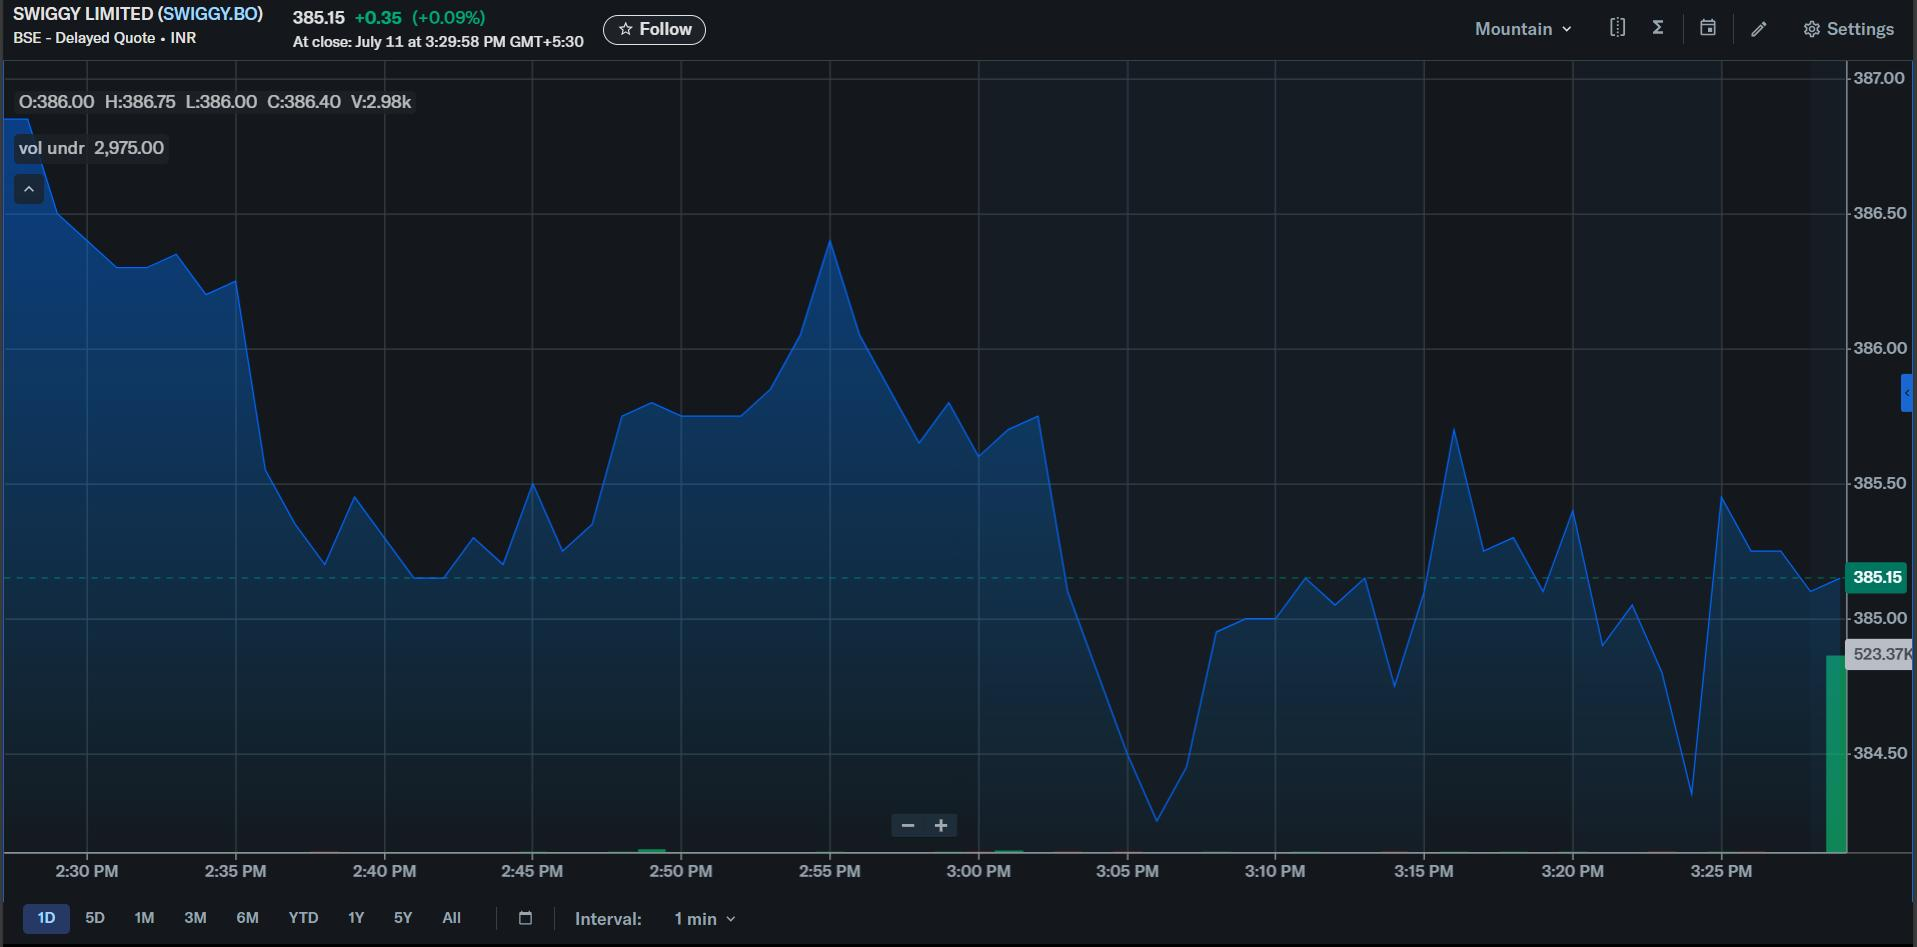Downtrend: (86, 198, 331, 627), (1028, 370, 1175, 847)
Uptrend: (724, 185, 835, 469), (1382, 352, 1459, 720), (1680, 423, 1734, 804), (559, 382, 635, 593)
